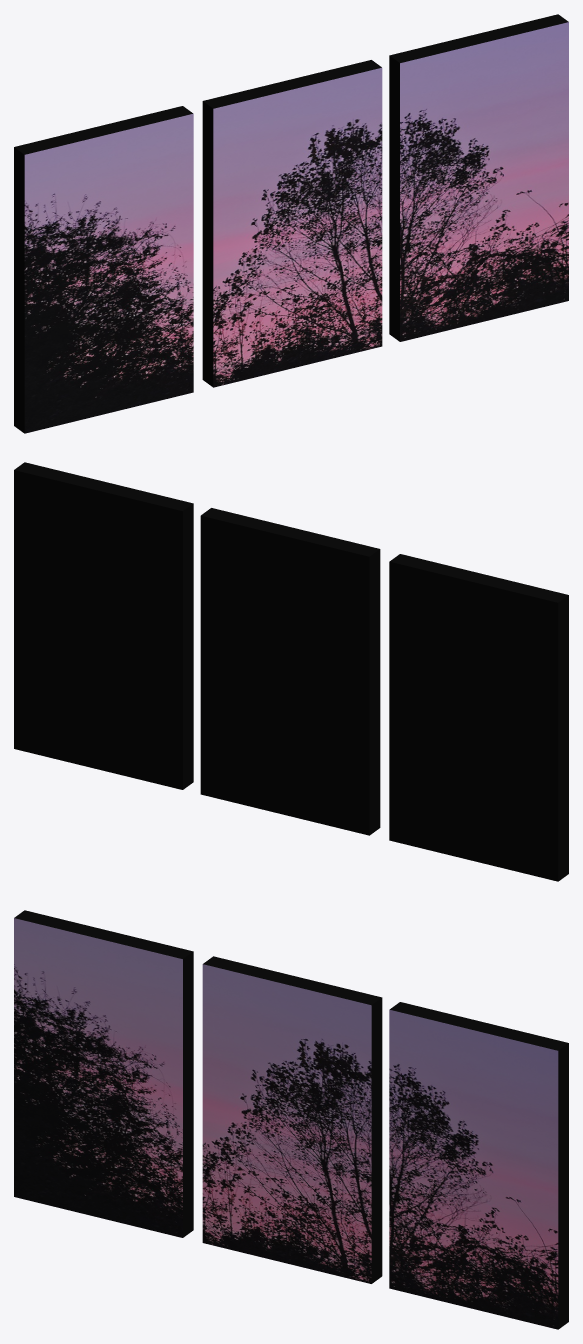
The model's file is Deco.FBX.
3 views of the same model, one above another, from view 1: azimuth 30°, elevation 25°; view 2: azimuth 150°, elevation 25°; view 3: azimuth 330°, elevation 25° (orthographic).
Visible parts, largest first — view 1: deco; view 2: deco; view 3: deco.
Boxes of the visible parts, bbox=[...] form: deco: bbox=[14, 14, 568, 433]; deco: bbox=[14, 462, 568, 881]; deco: bbox=[14, 910, 568, 1329].
Size of the model in its own units: 667 by 327 by 22.65.
